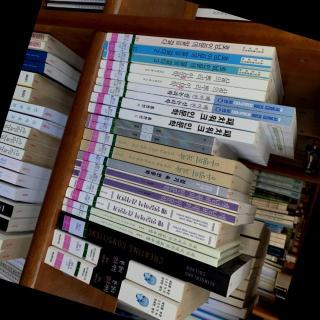book-spine: (52, 211, 233, 297), (47, 229, 187, 302), (40, 247, 179, 320), (60, 204, 218, 267), (61, 197, 221, 259), (62, 186, 218, 249), (70, 167, 236, 225), (73, 158, 239, 213), (67, 176, 221, 234), (93, 84, 292, 126), (95, 77, 295, 117), (78, 139, 231, 188), (75, 150, 228, 198), (89, 91, 258, 133), (81, 128, 235, 174), (87, 102, 254, 144), (97, 68, 265, 102), (99, 59, 267, 91), (101, 50, 270, 80), (102, 41, 272, 69), (84, 120, 213, 155), (105, 32, 273, 58), (86, 113, 214, 146)
